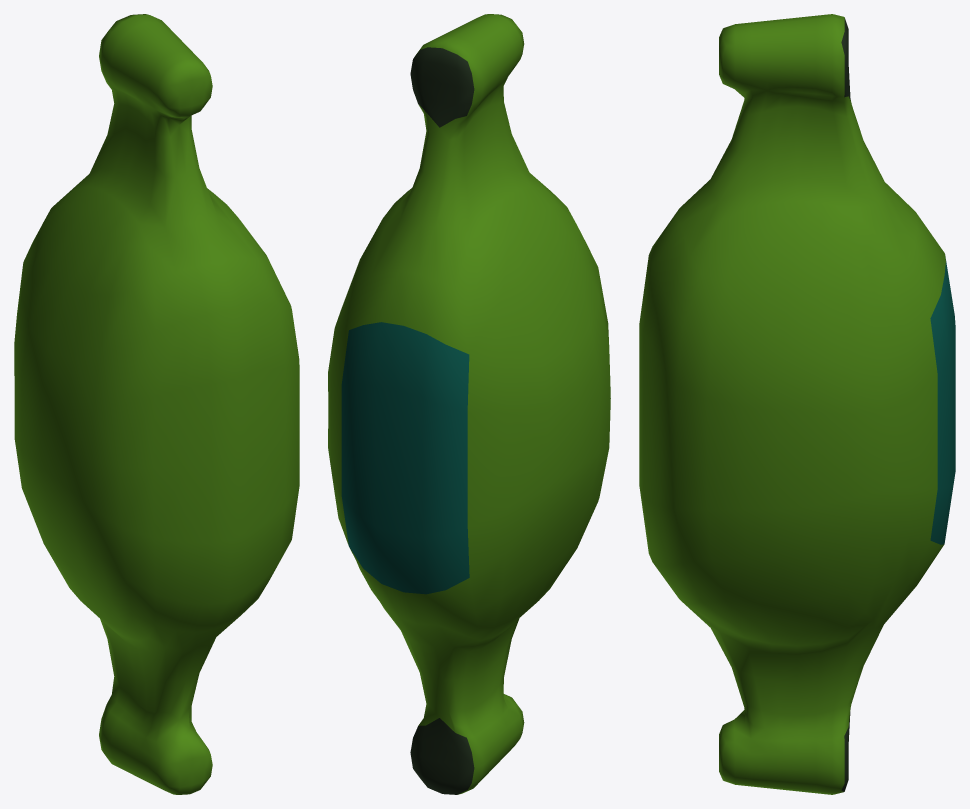
The model's file is alien2.FBX.
3 renders of one model, left to right at view 1: azimuth 30°, elevation 25°; view 2: azimuth 150°, elevation 25°; view 3: azimuth 270°, elevation 25°, orthographic. The views are drawn at different scales.
Parts seen in each view (by area): view 1: alien2; view 2: alien2; view 3: alien2.
Part boxes in pixels (x1,y1,x2,y2): alien2: (14,14,299,794); alien2: (328,14,610,794); alien2: (639,14,955,794).
Bounding box in the file's own units: 30.94 × 36.67 × 99.04.
3 materials, 3 textured.
